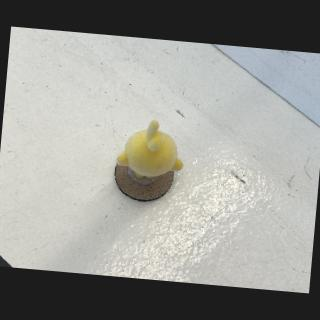teletubby: (117, 120, 183, 179)
